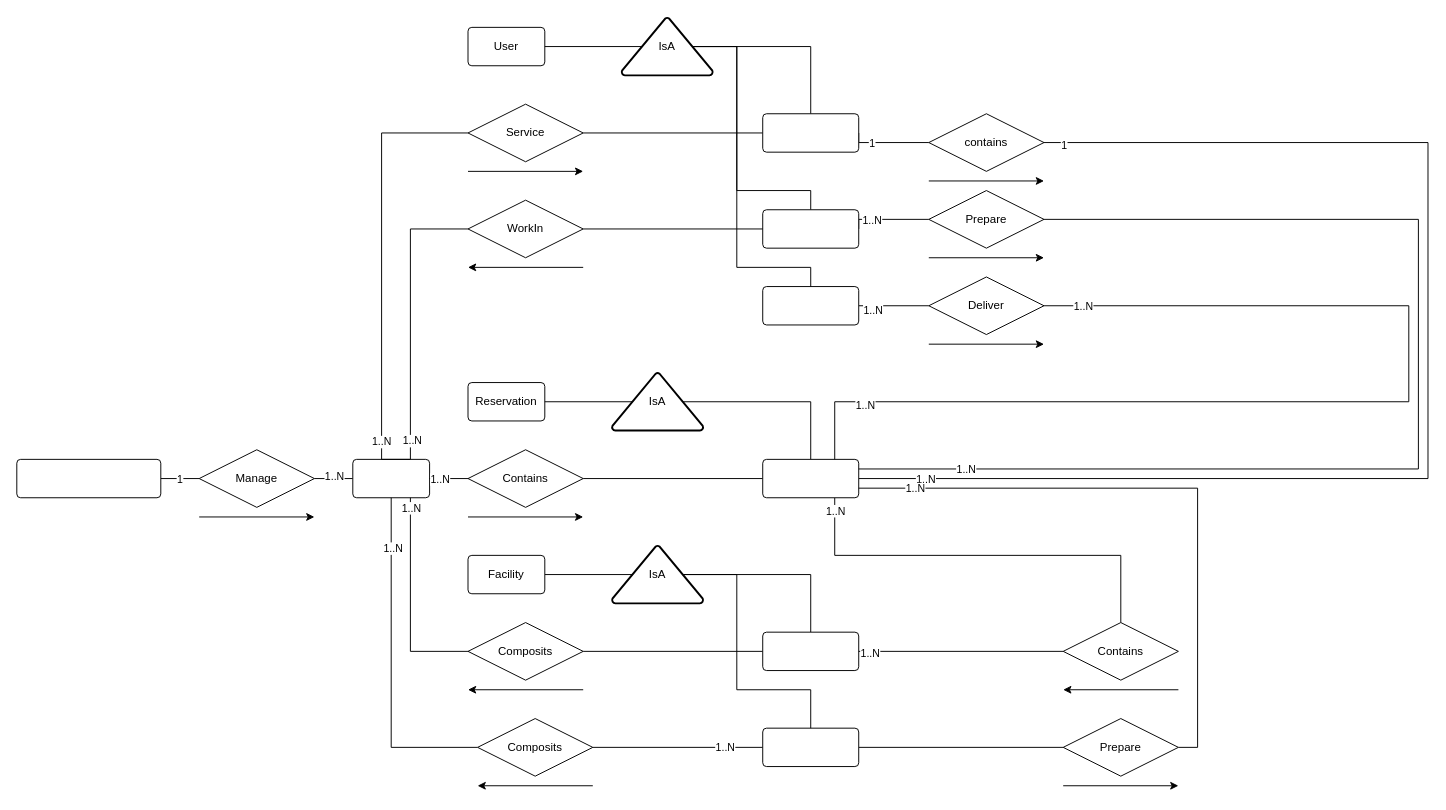
This 1446x810 diagram has some shape labels left out. The shapes that lost their labels are listed below. From the top down, each one's centre as x and y in pixels, then its label:
At (x=810, y=132): "Guest".
At (x=810, y=228): "Cook".
At (x=810, y=305): "FoodDeliver".
At (x=88, y=478): "ResortManagementSystem".
At (x=391, y=478): "Resort".
At (x=810, y=478): "FoodRersevation".
At (x=810, y=651): "Room".
At (x=810, y=747): "Restarant".
